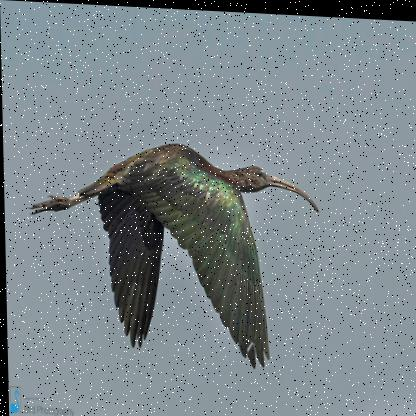Burung: (27, 131, 321, 368)
